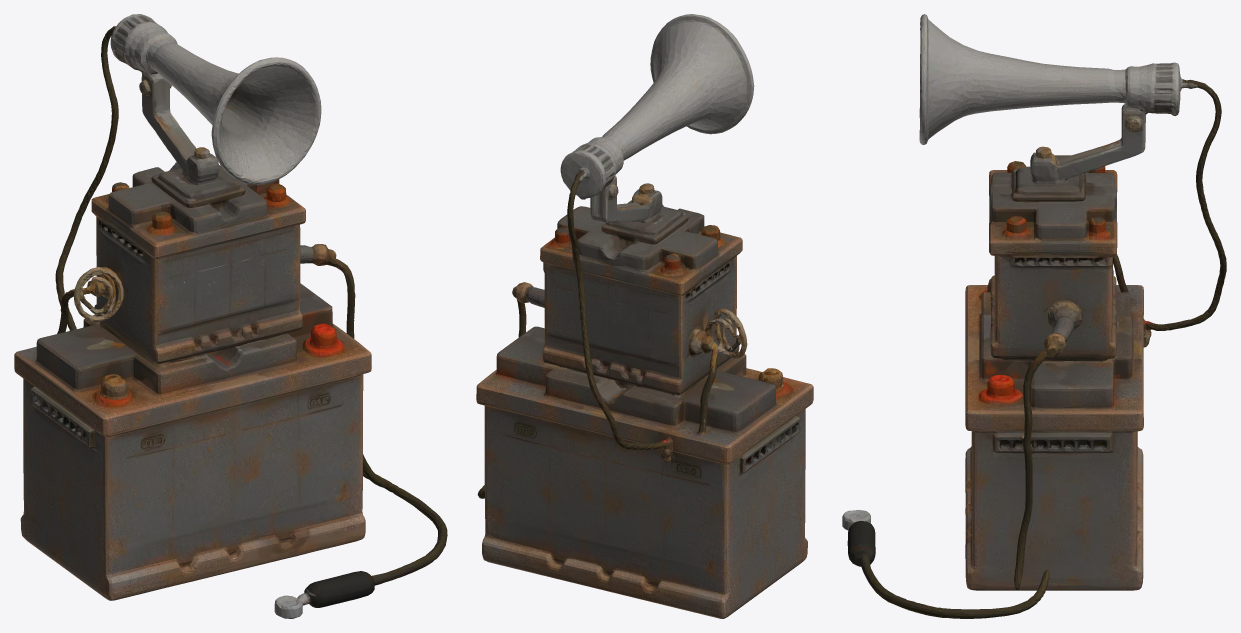
File: chest (79).glb
The picture shows the model from 3 angles, left to right: view 1: azimuth 30°, elevation 25°; view 2: azimuth 150°, elevation 25°; view 3: azimuth 270°, elevation 25°; orthographic projection. The views are drawn at different scales.
Visible parts, largest first — view 1: Hy21_Mesh.obj; view 2: Hy21_Mesh.obj; view 3: Hy21_Mesh.obj.
Boxes of the visible parts, box(x1,y1,x2,y2) form: Hy21_Mesh.obj: box(14, 14, 447, 618); Hy21_Mesh.obj: box(476, 14, 813, 618); Hy21_Mesh.obj: box(842, 14, 1226, 618).
Bounding box in the file's own units: 1.29 × 1.96 × 1.32.
1 material, 1 textured.
